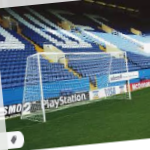goals: (18, 48, 132, 123)
